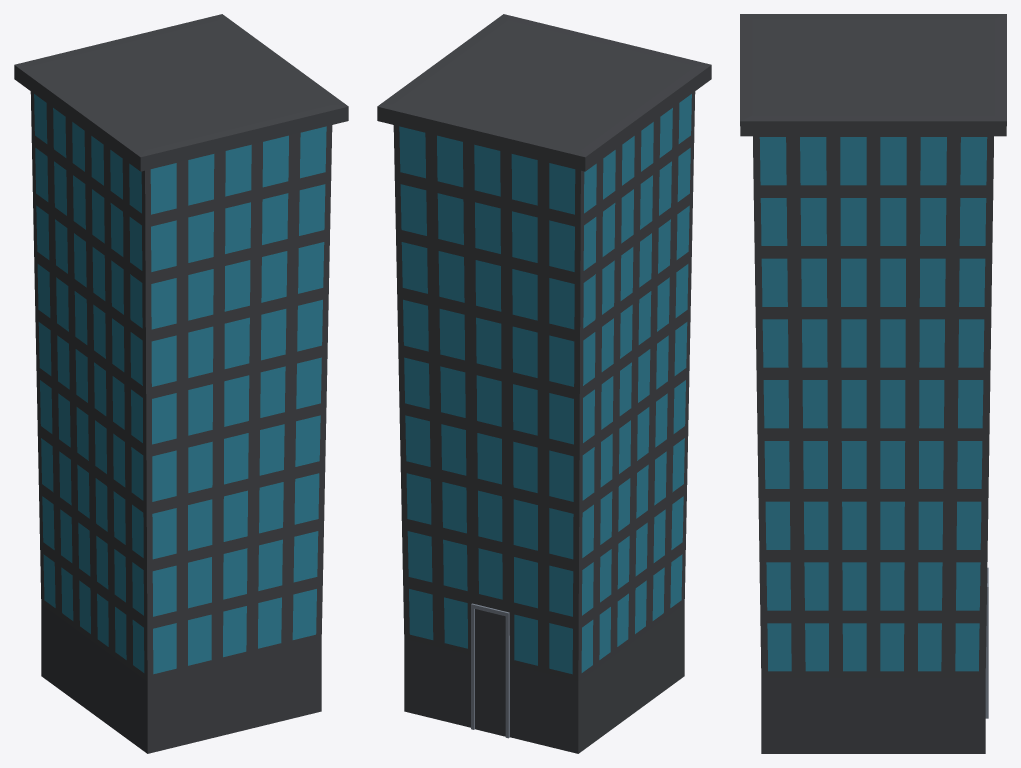
Rendered from Building_House_07.fbx.
3 views of the same model, side by side, from view 1: azimuth 30°, elevation 25°; view 2: azimuth 150°, elevation 25°; view 3: azimuth 270°, elevation 25° (orthographic). The views are drawn at different scales.
Parts seen in each view (by area): view 1: Building_House_07; view 2: Building_House_07; view 3: Building_House_07.
Boxes of the visible parts, x1,y1,x2,y2 form: Building_House_07: [14, 14, 348, 753]; Building_House_07: [377, 14, 711, 753]; Building_House_07: [740, 14, 1006, 753].
Size of the model in its own units: 917 by 2562 by 965.
